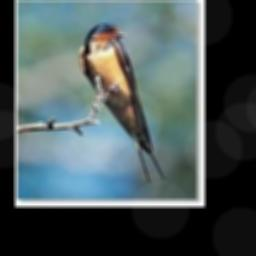Swallow: (79, 23, 165, 182)
